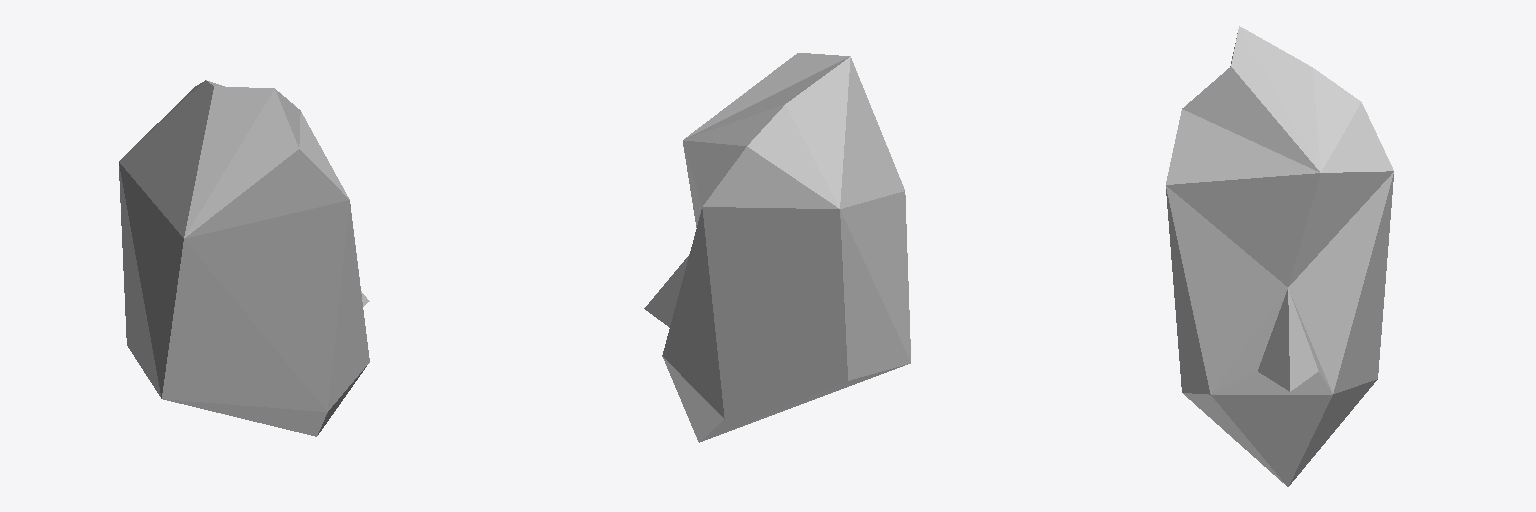
The model's file is Colorfull Man - Head.obj.
3 renders of one model, left to right at view 1: azimuth 30°, elevation 25°; view 2: azimuth 150°, elevation 25°; view 3: azimuth 270°, elevation 25°, orthographic.
Visible parts, largest first — view 1: group[number redacted]; view 2: group[number redacted]; view 3: group[number redacted].
Boxes of the visible parts, x1=… form: group[number redacted]: x1=119, y1=80, x2=369, y2=436; group[number redacted]: x1=644, y1=53, x2=910, y2=442; group[number redacted]: x1=1166, y1=26, x2=1393, y2=486.
Bounding box in the file's own units: 0.168 × 0.27 × 0.14.